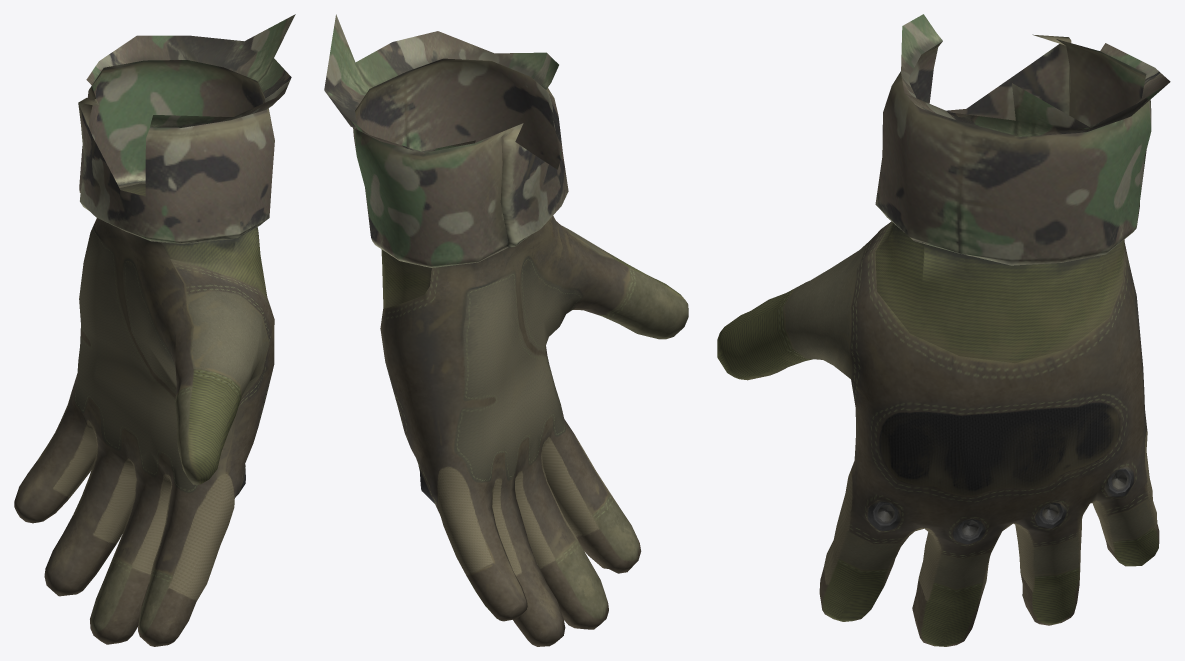
Rendered from glove_right.obj.
3 views of the same model, side by side, from view 1: azimuth 30°, elevation 25°; view 2: azimuth 150°, elevation 25°; view 3: azimuth 270°, elevation 25° (orthographic). The views are drawn at different scales.
Parts seen in each view (by area): view 1: Object_8; view 2: Object_8; view 3: Object_8.
Boxes of the visible parts, <box> form: Object_8: <box>14,14,295,646</box>; Object_8: <box>324,14,688,646</box>; Object_8: <box>717,14,1170,646</box>.
Bounding box in the file's own units: 0.1177 × 0.2702 × 0.1611.
Materials: 1 (1 with a texture image).
